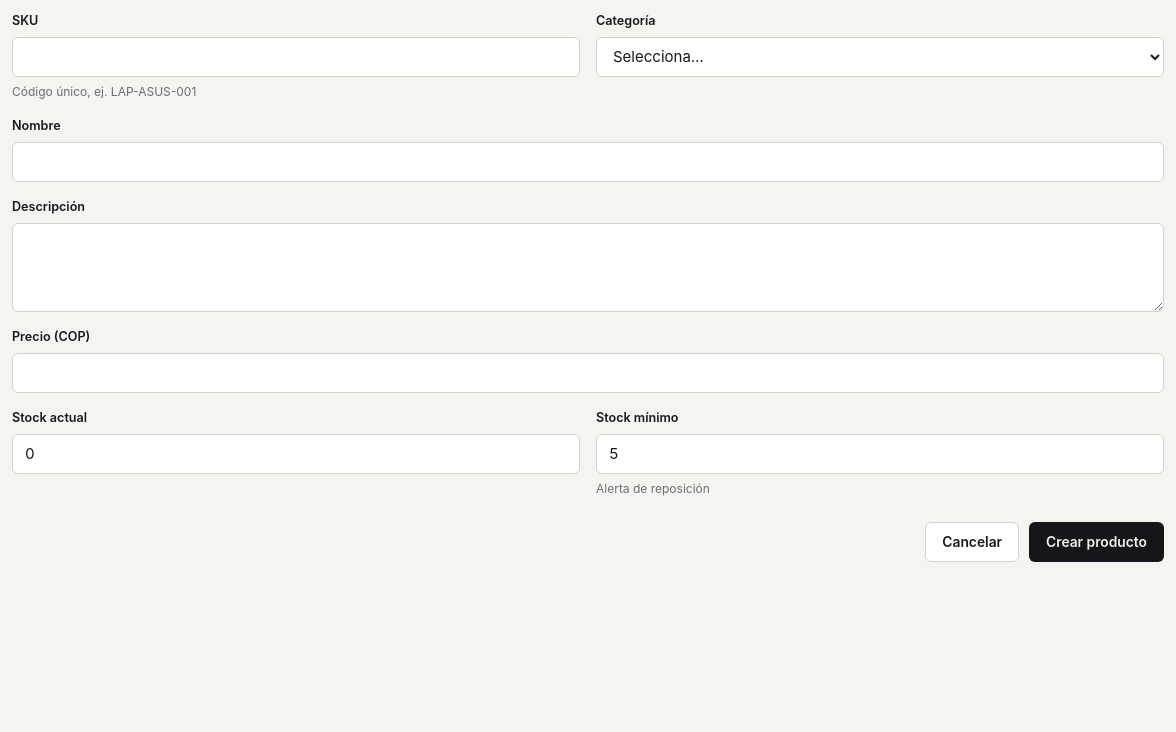
<ProductForm /> › muestra errores y no envía si el formulario está incompleto
This screenshot has width=1176, height=732.
Click the button "Crear producto" at [1097, 542], box [1029, 522, 1164, 562]
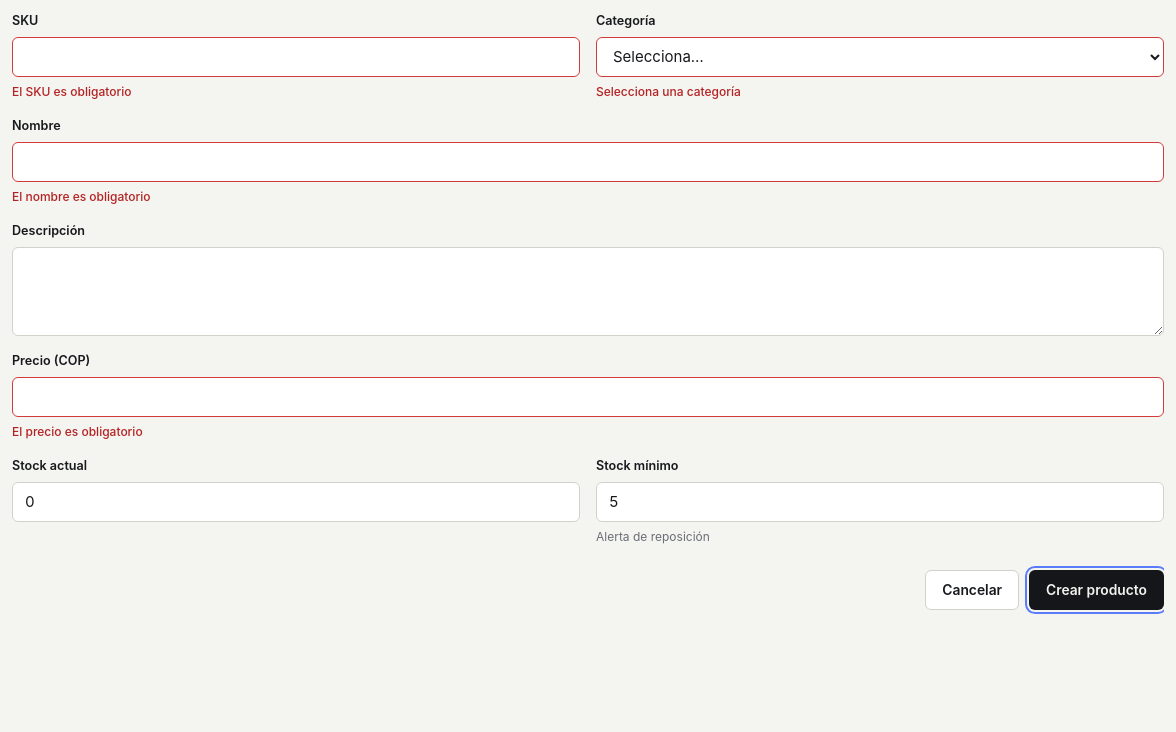
Expected: the text "El SKU es obligatorio" is shown, [12, 84, 131, 99]
Expected: the text "Selecciona una categoría" is shown, [596, 84, 741, 99]
